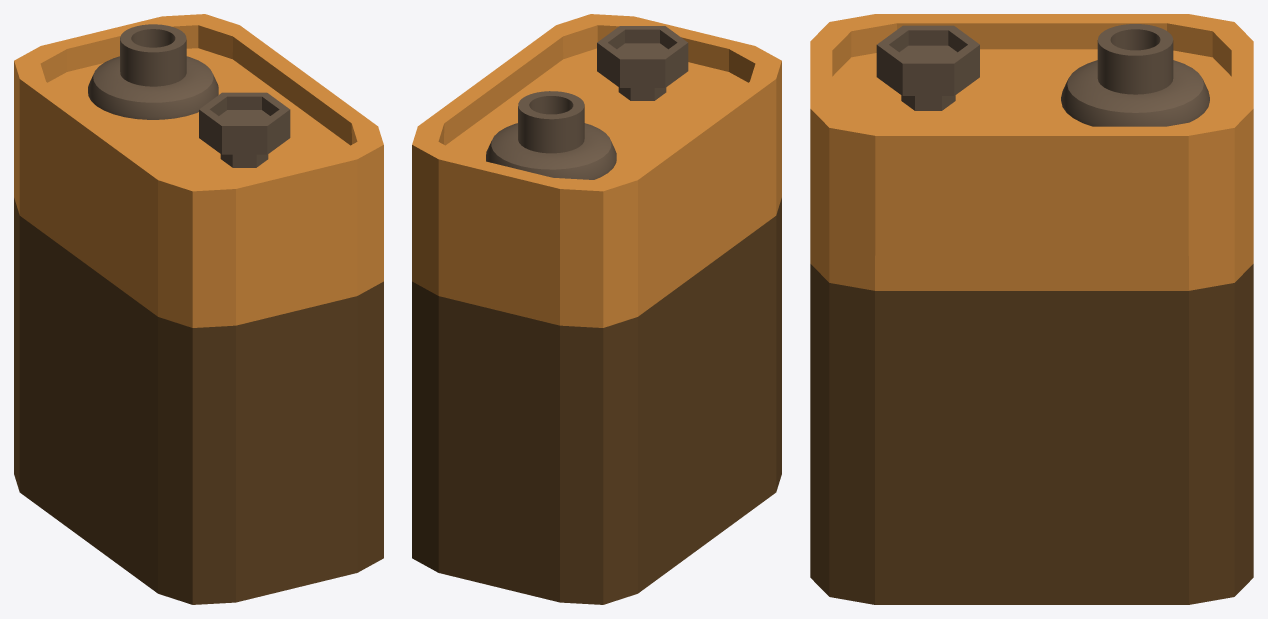
File: battery_1.fbx
The picture shows the model from 3 angles, left to right: view 1: azimuth 30°, elevation 25°; view 2: azimuth 150°, elevation 25°; view 3: azimuth 270°, elevation 25°; orthographic projection. The views are drawn at different scales.
Parts seen in each view (by area): view 1: Cube, Cylinder, Cylinder.001; view 2: Cube, Cylinder, Cylinder.001; view 3: Cube, Cylinder, Cylinder.001.
Part boxes in pixels (x1,y1,x2,y2): Cube: (14, 14, 383, 604); Cylinder: (88, 24, 218, 119); Cylinder.001: (199, 92, 290, 167); Cube: (412, 14, 781, 604); Cylinder: (486, 91, 616, 179); Cylinder.001: (597, 26, 688, 100); Cube: (810, 14, 1253, 604); Cylinder: (1061, 24, 1209, 126); Cylinder.001: (876, 25, 979, 110).
Bounding box in the file's own units: 111 × 215 × 171.
